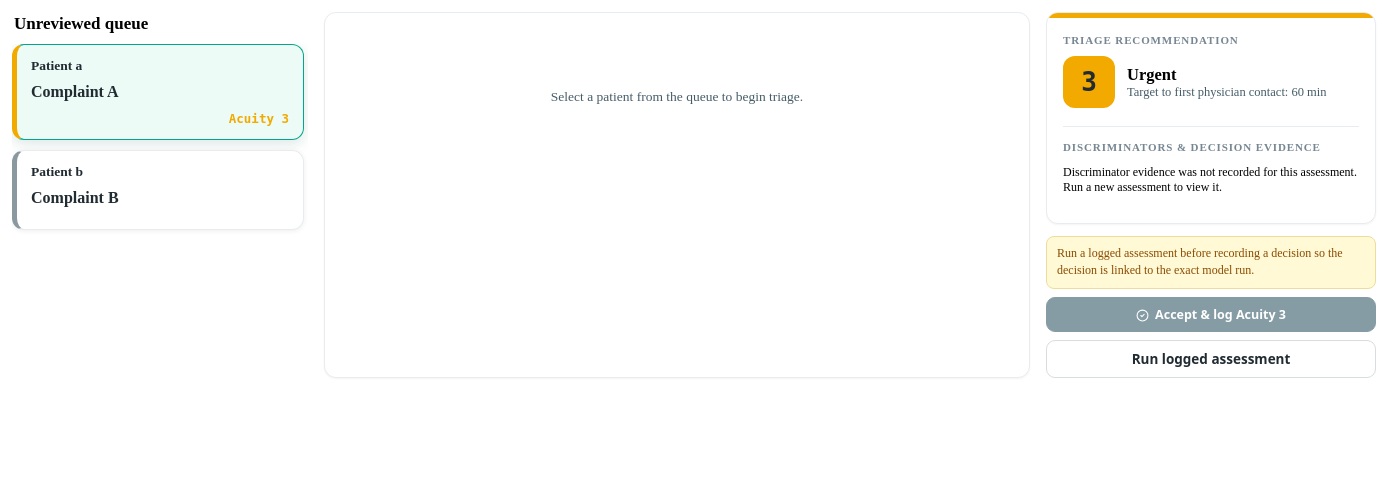
it: asynchronous patient/run isolation › ignores detail from a previously selected patient even when it finishes last
Click the button with aria-label "Open Patient b" at x=57, y=171, box [12,150,304,230]
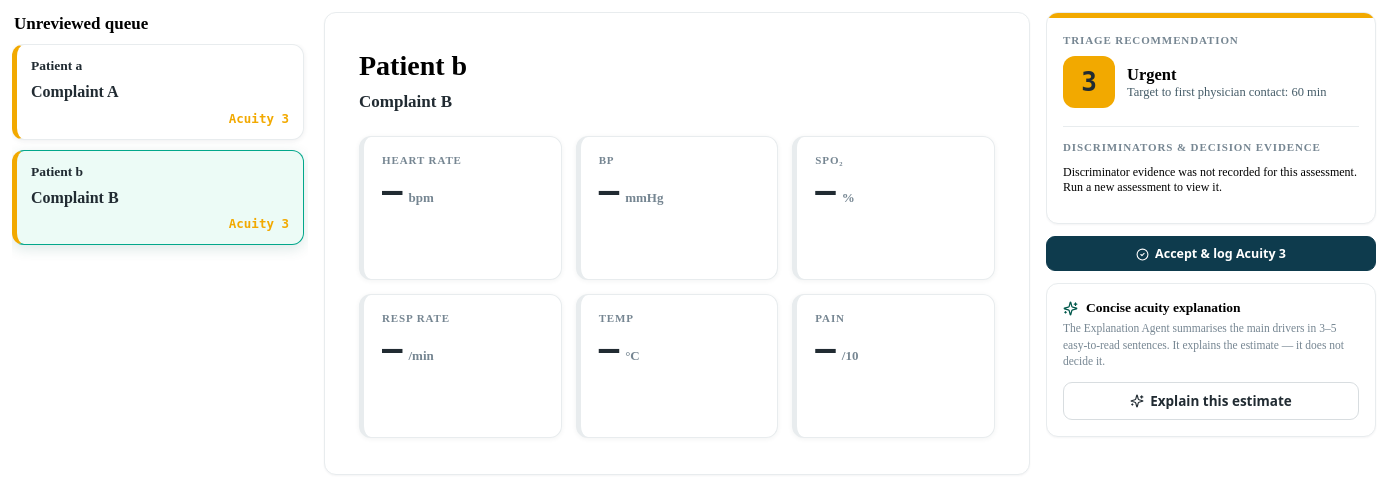
Check: the text "Complaint b" is shown 2 times, box [31,189,119,206]; [359,91,467,114]
